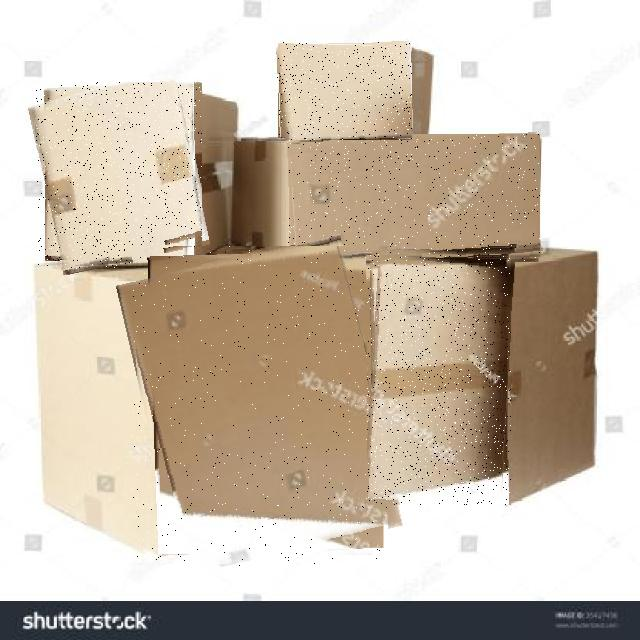BoxFace: (132, 246, 388, 566), (366, 255, 511, 505), (288, 134, 540, 263), (36, 82, 202, 269), (277, 42, 412, 140)
